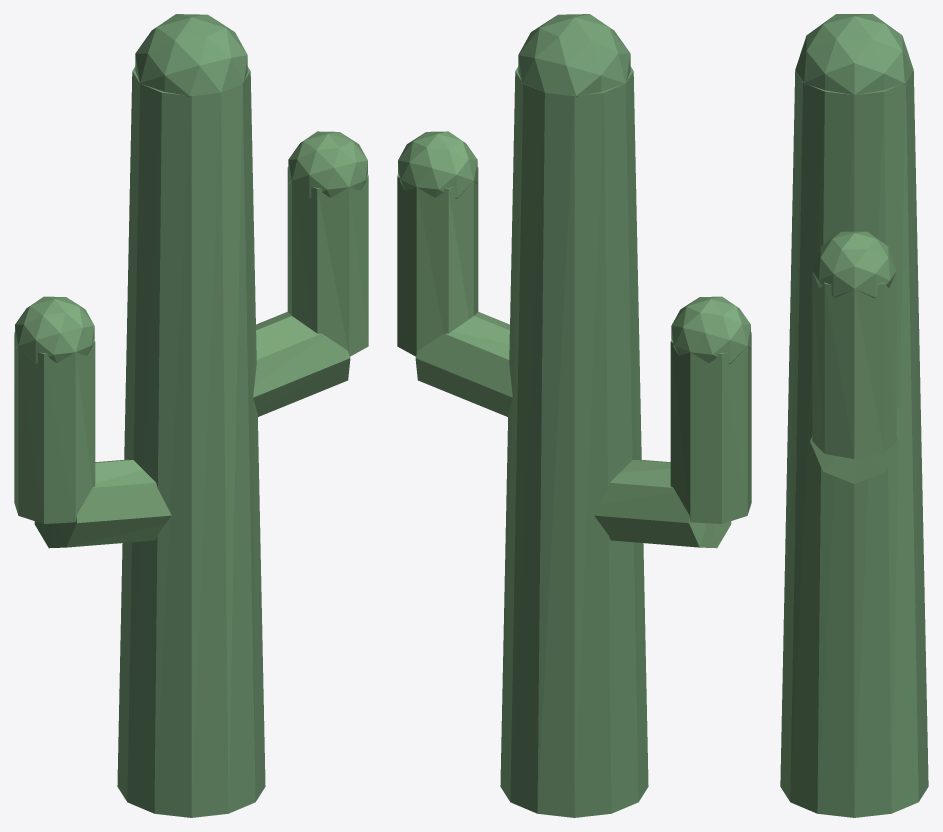
File: cactus_branching.glb
The picture shows the model from 3 angles, left to right: view 1: azimuth 30°, elevation 25°; view 2: azimuth 150°, elevation 25°; view 3: azimuth 270°, elevation 25°; orthographic projection.
Parts seen in each view (by area): view 1: trunk, arm_v_0, arm_v_1, crown, arm_h_0, arm_h_1, cap_1, cap_0; view 2: trunk, arm_v_0, arm_v_1, crown, arm_h_0, arm_h_1, cap_1, cap_0; view 3: trunk, arm_v_1, crown, cap_1, arm_h_1.
Boxes of the visible parts, <box> form: trunk: <box>117,66,265,817</box>; arm_v_0: <box>14,332,95,523</box>; arm_v_1: <box>287,167,368,356</box>; crown: <box>135,14,247,97</box>; arm_h_0: <box>34,459,171,548</box>; arm_h_1: <box>253,312,350,416</box>; cap_1: <box>288,131,367,198</box>; cap_0: <box>15,296,94,363</box>; trunk: <box>500,66,648,817</box>; arm_v_0: <box>670,332,751,523</box>; arm_v_1: <box>397,167,478,356</box>; crown: <box>518,14,630,97</box>; arm_h_0: <box>594,459,731,548</box>; arm_h_1: <box>415,312,512,416</box>; cap_1: <box>398,131,477,198</box>; cap_0: <box>671,296,750,363</box>; trunk: <box>780,70,928,817</box>; arm_v_1: <box>812,271,896,458</box>; crown: <box>795,14,913,94</box>; cap_1: <box>812,231,896,297</box>; arm_h_1: <box>810,406,898,483</box>.
Size of the model in its own units: 0.81 by 1.72 by 0.3.
